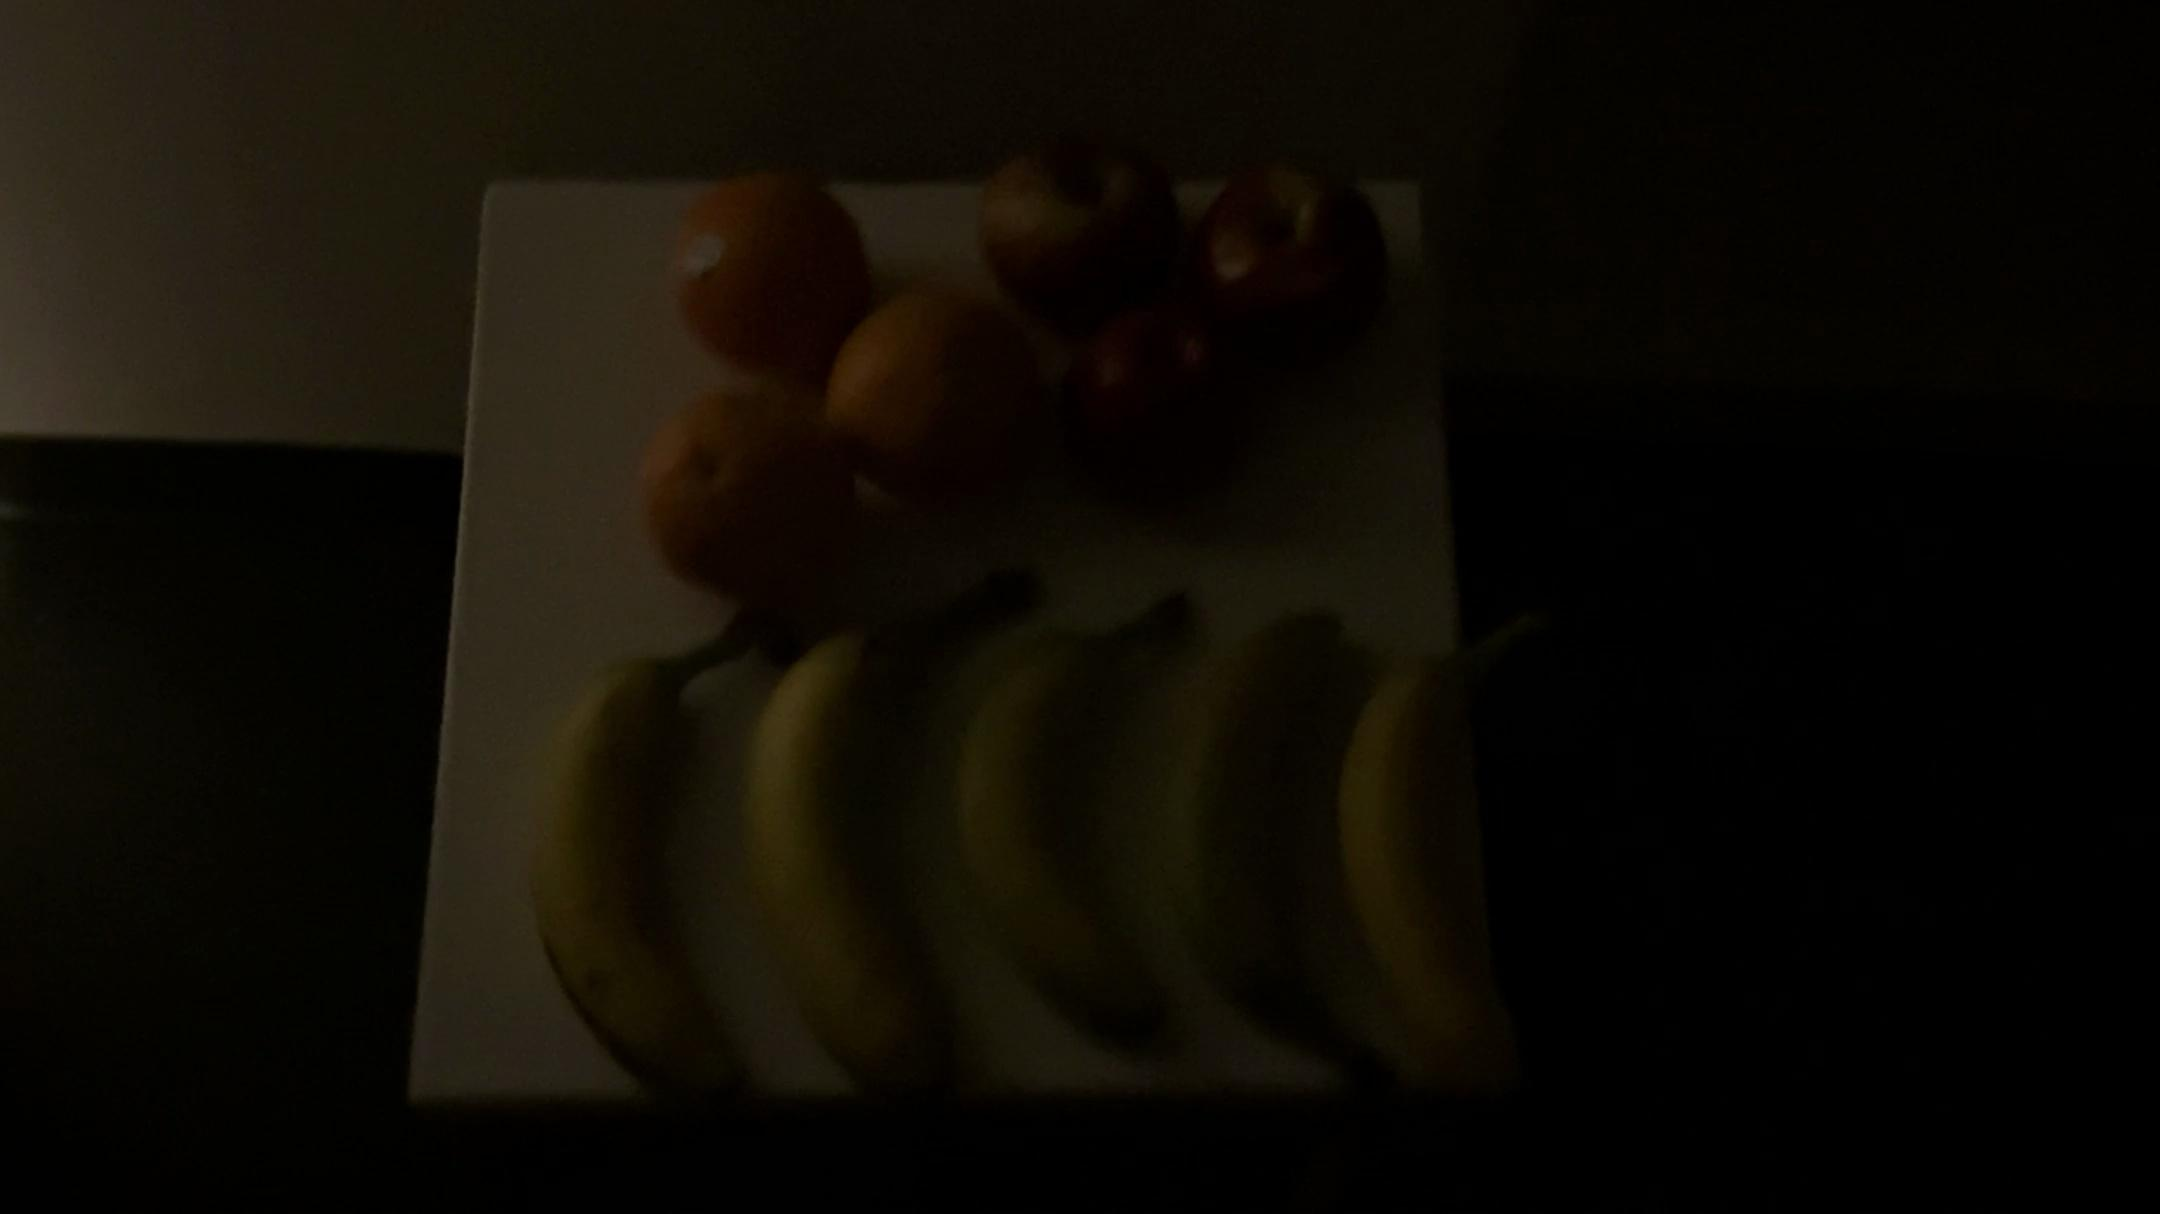apple: (1176, 163, 1423, 389), (1064, 297, 1265, 516), (964, 129, 1179, 332)
banana: (748, 554, 1037, 1118), (519, 580, 798, 1103), (1151, 583, 1392, 1092), (945, 577, 1205, 1043), (1320, 634, 1564, 1123)
orange: (826, 255, 1056, 518), (625, 365, 844, 600), (665, 165, 866, 375)
